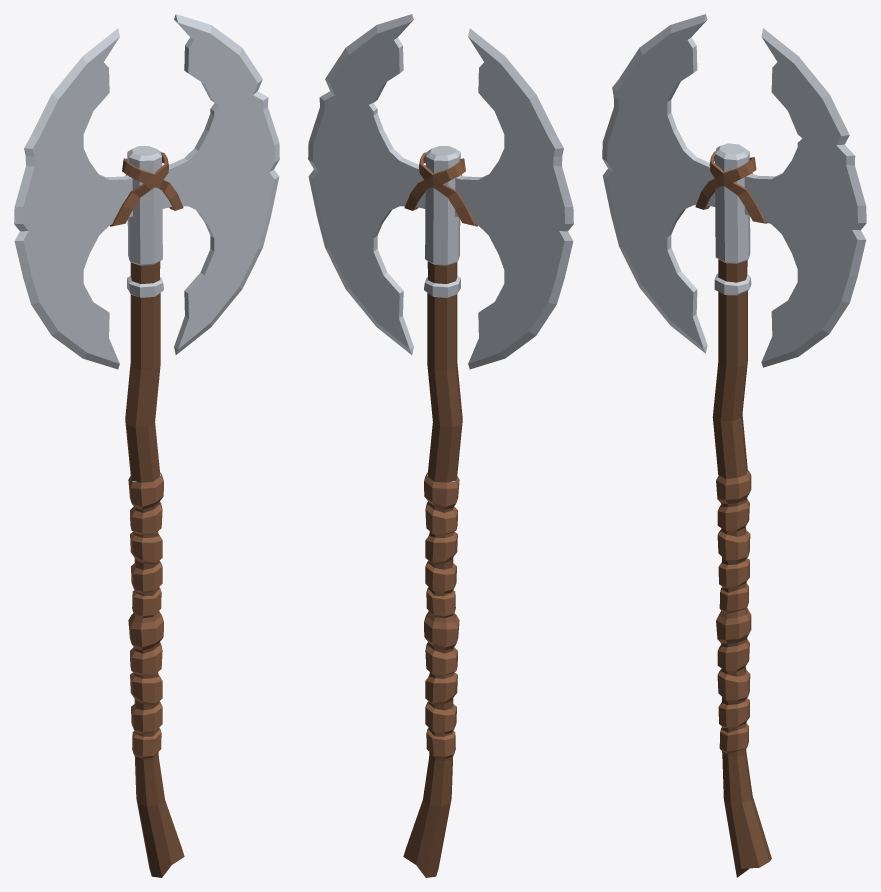
File: Q_Axe_Double-BVglqH7A.glb
The picture shows the model from 3 angles, left to right: view 1: azimuth 30°, elevation 25°; view 2: azimuth 150°, elevation 25°; view 3: azimuth 330°, elevation 25°; orthographic projection.
Parts seen in each view (by area): view 1: Axe_Double; view 2: Axe_Double; view 3: Axe_Double.
Boxes of the visible parts, left/top/right/bottom form: Axe_Double: left=14, top=14, right=279, bottom=877; Axe_Double: left=308, top=14, right=573, bottom=877; Axe_Double: left=602, top=14, right=866, bottom=877.
Bounding box in the file's own units: 2.06 × 6.35 × 0.2609.
